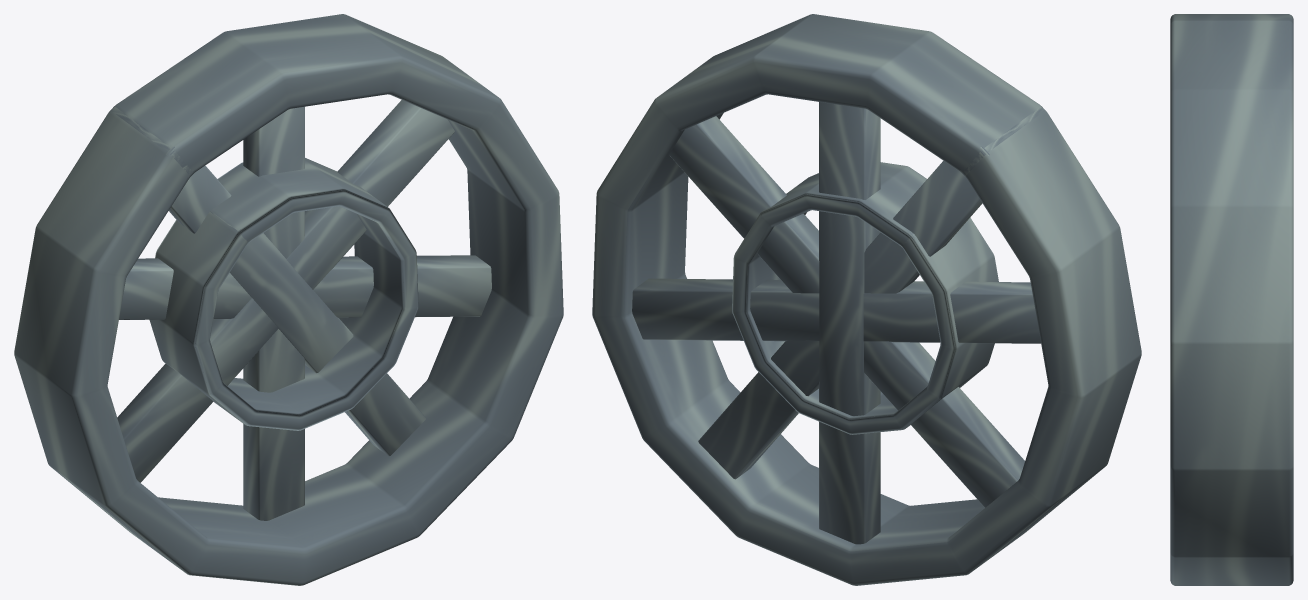
The model's file is Wheel.fbx.
The picture shows the model from 3 angles, left to right: view 1: azimuth 30°, elevation 25°; view 2: azimuth 150°, elevation 25°; view 3: azimuth 270°, elevation 25°; orthographic projection.
Parts seen in each view (by area): view 1: WoodPlank.004; view 2: WoodPlank.004; view 3: WoodPlank.004.
Boxes of the visible parts, x1=… form: WoodPlank.004: x1=14, y1=14, x2=563, y2=585; WoodPlank.004: x1=592, y1=14, x2=1141, y2=585; WoodPlank.004: x1=1170, y1=14, x2=1293, y2=585.
Bounding box in the file's own units: 0.9904 × 0.9943 × 0.2143.
